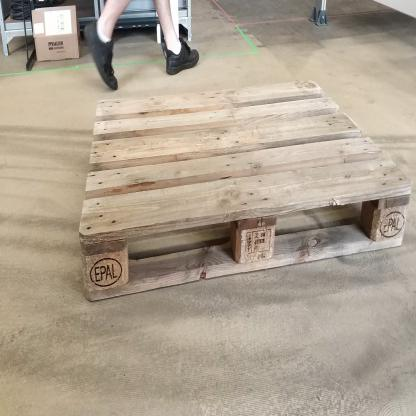BoxFace: (70, 73, 414, 310)
